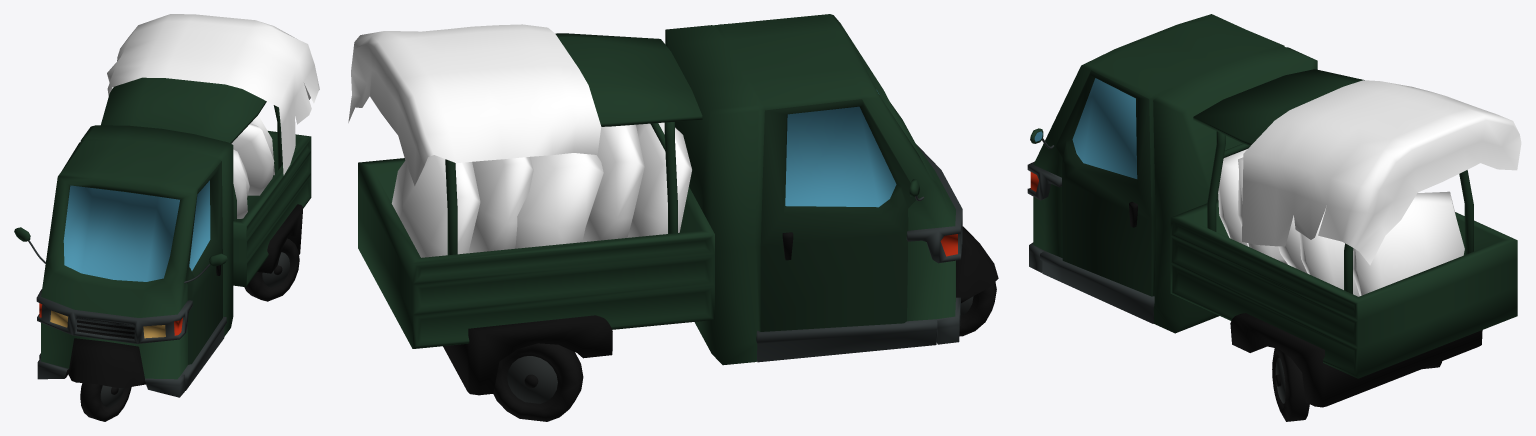
Rendered from ThreeCarWheel.fbx.
3 renders of one model, left to right at view 1: azimuth 30°, elevation 25°; view 2: azimuth 150°, elevation 25°; view 3: azimuth 270°, elevation 25°, orthographic. The views are drawn at different scales.
Parts seen in each view (by area): view 1: ThreeWheelerCar, ClothCover, Sacks, Wheel.001, Wheel; view 2: ThreeWheelerCar, ClothCover, Sacks, Wheel.002, Wheel; view 3: ThreeWheelerCar, ClothCover, Sacks, Wheel.001.
Boxes of the visible parts, x1,y1,x2,y2 form: ThreeWheelerCar: (14,77,311,397); ClothCover: (107,14,319,175); Sacks: (231,115,274,218); Wheel.001: (244,238,299,301); Wheel: (80,383,131,421); ThreeWheelerCar: (358,14,998,395); ClothCover: (348,24,601,185); Sacks: (391,122,691,257); Wheel.002: (493,343,583,421); Wheel: (959,282,996,336); ThreeWheelerCar: (1027,14,1517,407); ClothCover: (1242,80,1521,265); Sacks: (1218,149,1464,296); Wheel.001: (1272,348,1309,421).
Bounding box in the file's own units: 3.83 × 3.68 × 2.39.
